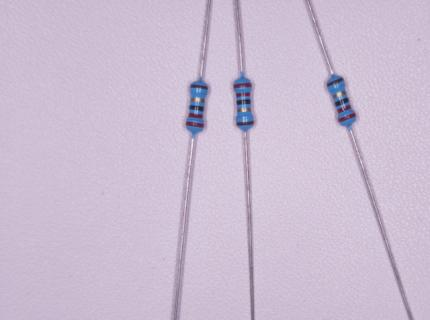Red band: (338, 112, 356, 123), (337, 104, 351, 114), (186, 121, 204, 127), (233, 83, 251, 89), (188, 113, 203, 119), (236, 92, 251, 97)
